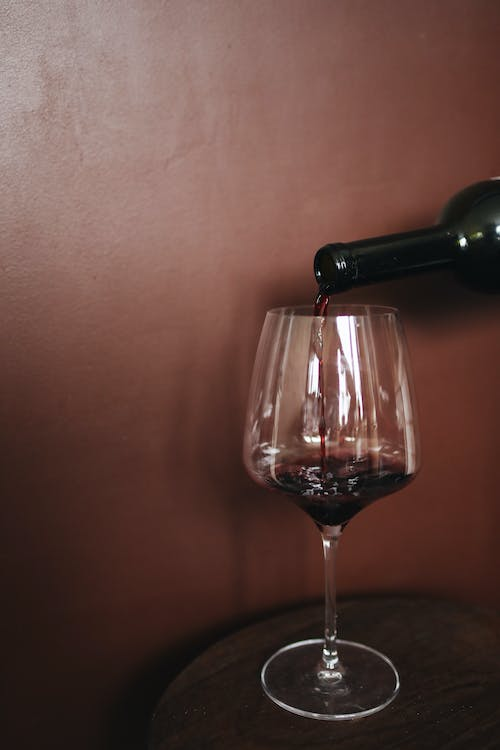alcohol: (239, 300, 424, 723), (311, 172, 500, 298)
